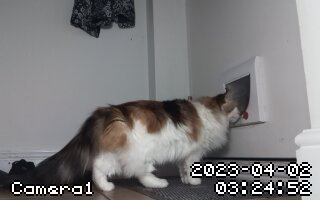clara: (11, 95, 249, 189)
